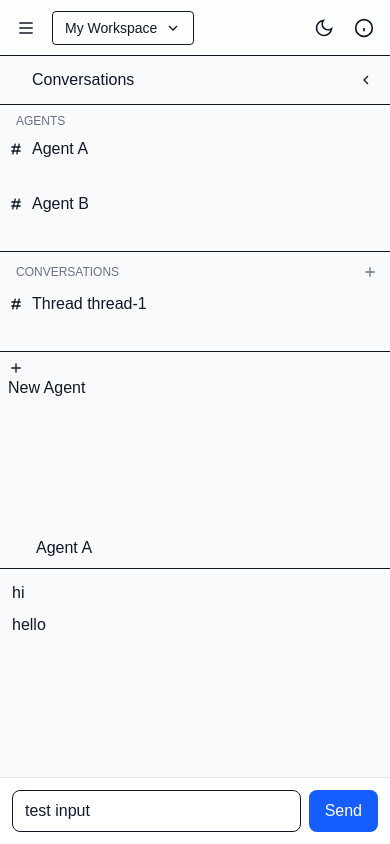
Test: ChatPage › Mobile Drawer Navigation › opens conversations drawer when button clicked
Click the button named "Open conversations": (26, 28) [8, 10, 44, 46]
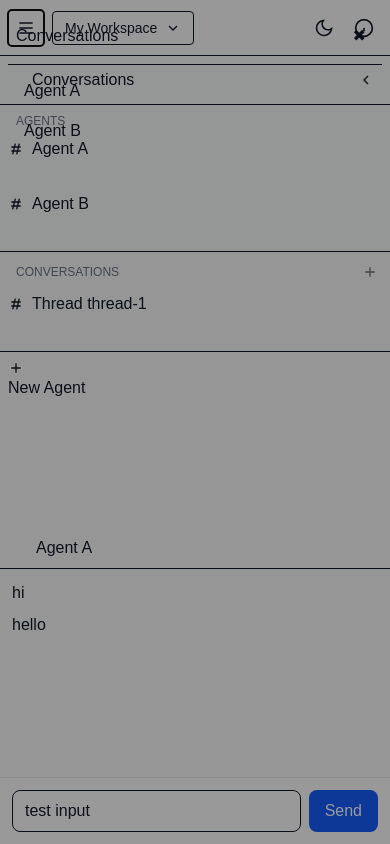
Now the dialog is shown
Now the dialog shows "Conversations", box [16, 27, 118, 44]
